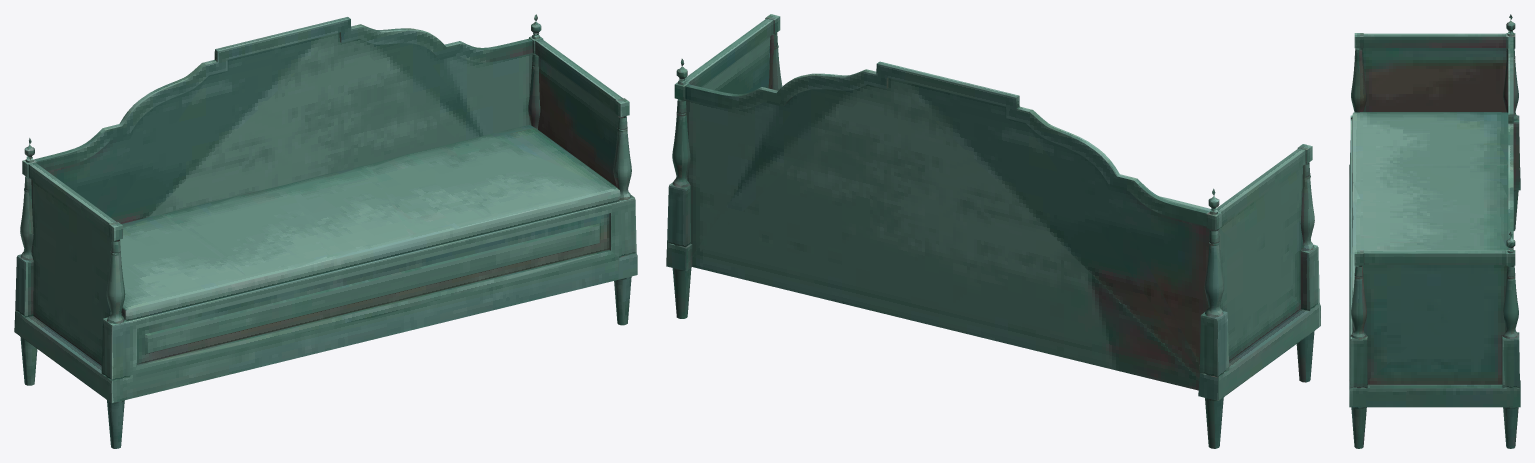
File: window_seat.glb
The picture shows the model from 3 angles, left to right: view 1: azimuth 30°, elevation 25°; view 2: azimuth 150°, elevation 25°; view 3: azimuth 270°, elevation 25°; orthographic projection. The views are drawn at different scales.
Parts seen in each view (by area): view 1: window_seat_src; view 2: window_seat_src; view 3: window_seat_src.
Part boxes in pixels (left/top/right/bottom): window_seat_src: left=14, top=14, right=637, bottom=448; window_seat_src: left=666, top=14, right=1320, bottom=448; window_seat_src: left=1349, top=14, right=1520, bottom=448.
Bounding box in the file's own units: 2.31 × 1.21 × 0.7425.
1 material, 1 textured.
